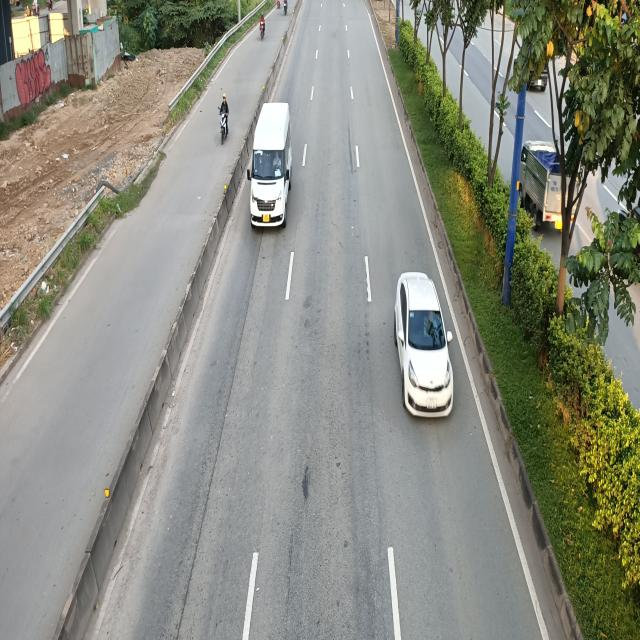car: (394, 272, 454, 418)
van: (248, 104, 294, 233)
